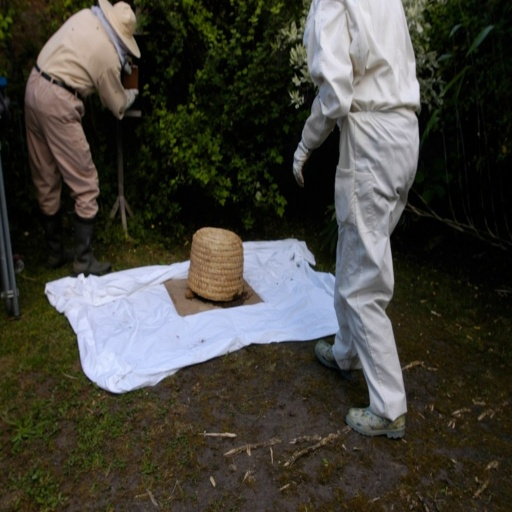hand: (291, 136, 311, 185), (123, 85, 136, 106)
